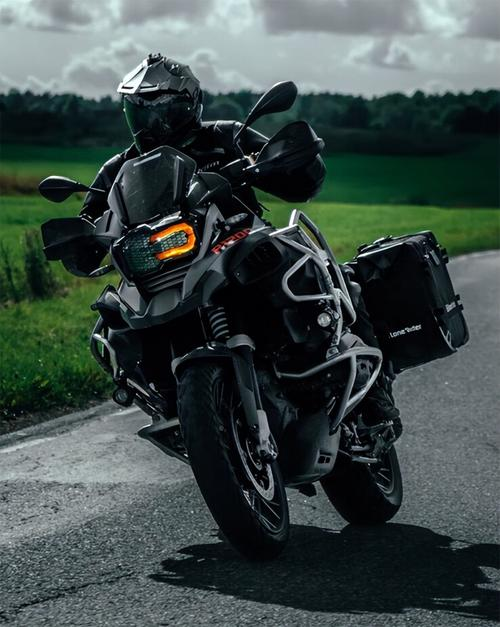摩托车: (39, 157, 475, 559)
